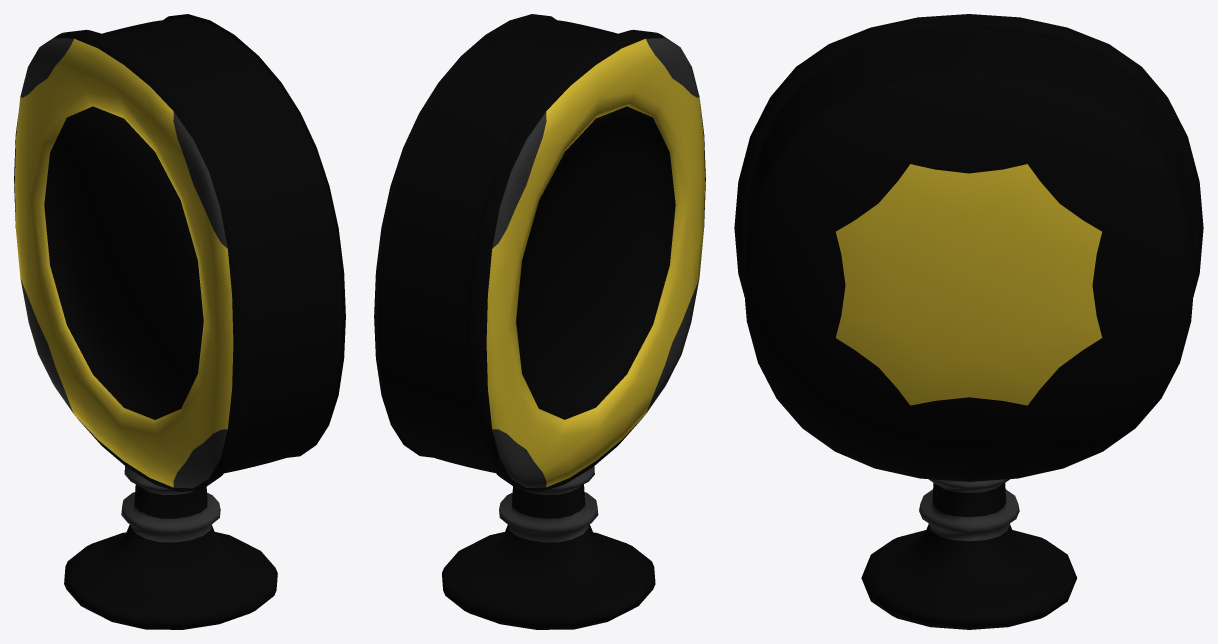
Rendered from Screens_LowPoly_other.obj.
3 views of the same model, side by side, from view 1: azimuth 30°, elevation 25°; view 2: azimuth 150°, elevation 25°; view 3: azimuth 270°, elevation 25° (orthographic).
Bounding box in the file's own units: 0.8954 × 2.56 × 1.95.
